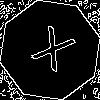X: (25, 25, 77, 81)
